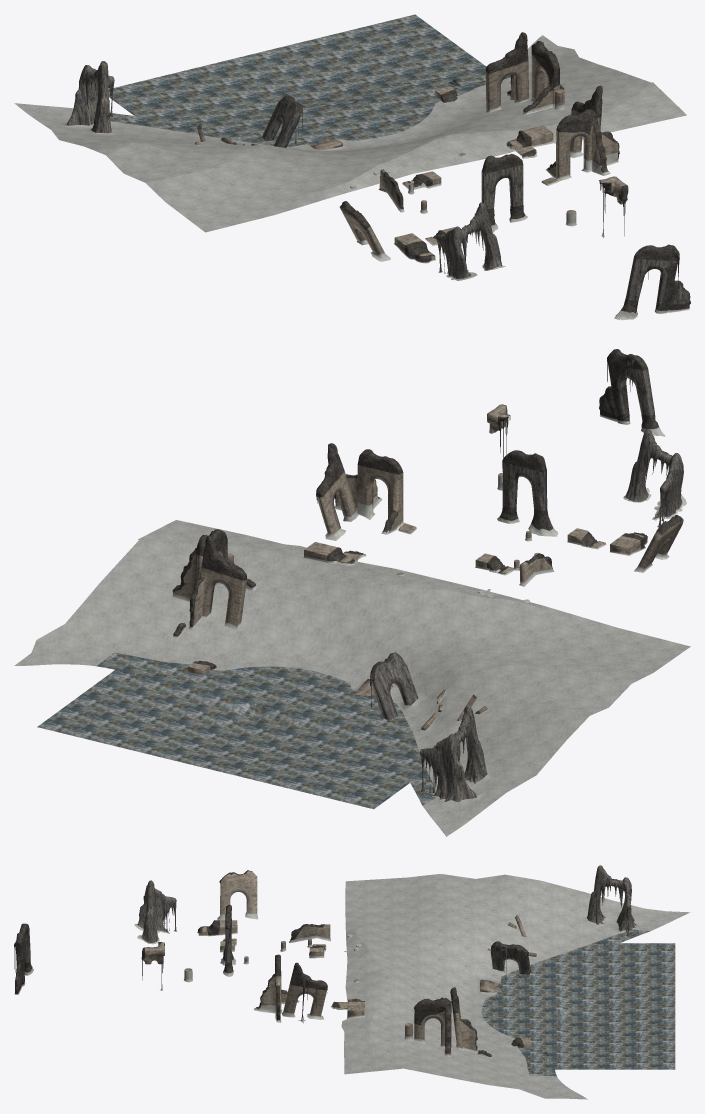
3 views of the same model, one above another, from view 1: azimuth 30°, elevation 25°; view 2: azimuth 150°, elevation 25°; view 3: azimuth 270°, elevation 25° (orthographic). The views are drawn at different scales.
Parts seen in each view (by area): view 1: 02_-_Default, Material_#29, Material_#30, Material_#28, Material_#32, Material_#33; view 2: 02_-_Default, Material_#29, Material_#30, Material_#28, Material_#32; view 3: 02_-_Default, Material_#29, Material_#30, Material_#28, Material_#32, Material_#33.
Part boxes in pixels (<box>): 02_-_Default: <box>14,14,689,320</box>; Material_#29: <box>339,44,690,318</box>; Material_#30: <box>66,61,688,304</box>; Material_#28: <box>85,32,690,312</box>; Material_#32: <box>195,75,591,252</box>; Material_#33: <box>352,66,591,240</box>; 02_-_Default: <box>14,415,690,836</box>; Material_#29: <box>172,353,683,675</box>; Material_#30: <box>371,368,683,802</box>; Material_#28: <box>173,349,682,793</box>; Material_#32: <box>202,472,670,730</box>; 02_-_Default: <box>14,874,690,1099</box>; Material_#29: <box>14,871,530,1057</box>; Material_#30: <box>18,865,637,988</box>; Material_#28: <box>14,870,630,1055</box>; Material_#32: <box>184,900,536,1046</box>; Material_#33: <box>226,888,460,1025</box>.
Size of the model in its own units: 177 by 38.97 by 255.
